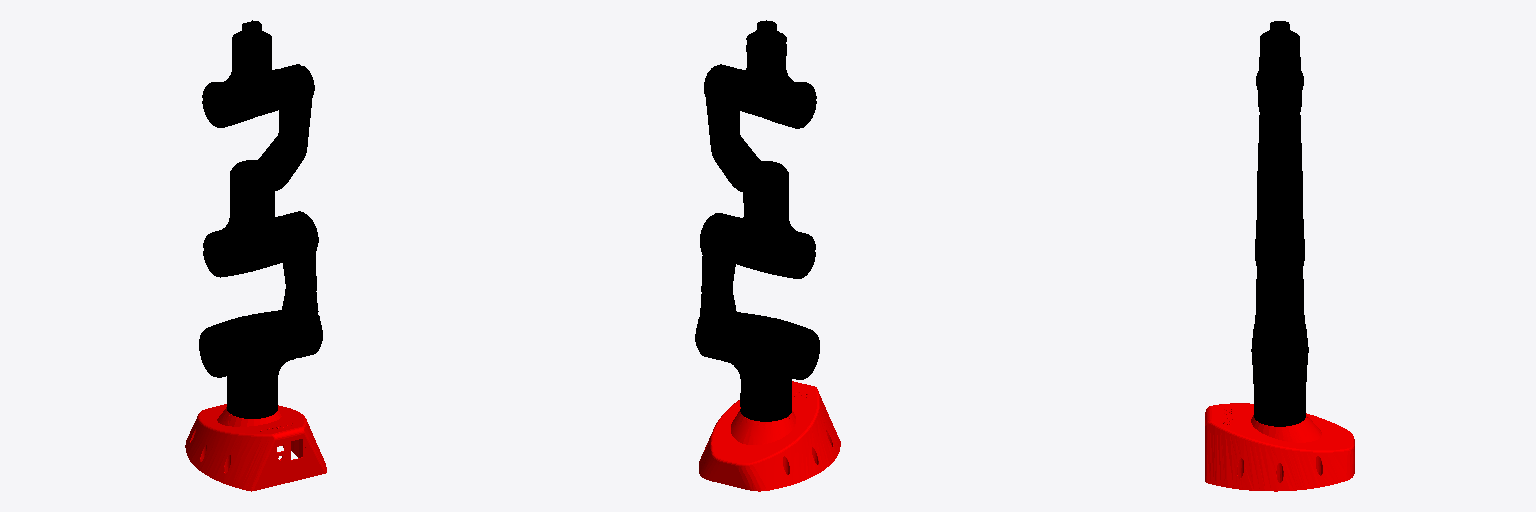
URDF robot description (mara):
<?xml version="1.0" ?>
<!-- =================================================================================== -->
<!-- |    This document was autogenerated by xacro from ros2_mara_ws/src/mara/mara_description/urdf/reinforcement_learning/mara_robot_run.urdf.xacro | -->
<!-- |    EDITING THIS FILE BY HAND IS NOT RECOMMENDED                                 | -->
<!-- =================================================================================== -->
<robot name="mara" xmlns:xacro="http://ros.org/wiki/xacro">
  <link name="motor1_link">
    <inertial>
      <origin rpy="0 0 0" xyz="0.02066 0 0.12051"/>
      <mass value="5.6"/>
      <inertia ixx="0.0200769278" ixy="-7.72273E-006" ixz="-0.0050158708" iyy="0.0257088151" iyz="5.49229E-006" izz="0.0120821377"/>
    </inertial>
    <visual>
      <origin rpy="0 0 0" xyz="0 0 0"/>
      <geometry>
        <mesh filename="package://mara_description/meshes/MARA_T49.dae" scale="0.001 0.001 0.001"/>
      </geometry>
      <material name="Gazebo/White">
        <color rgba="0. 0. 0. 1"/>
      </material>
    </visual>
    <collision>
      <origin rpy="0 0 0" xyz="0 0 0"/>
      <geometry>
        <mesh filename="package://mara_description/meshes/MARA_T49.dae" scale="0.001 0.001 0.001"/>
      </geometry>
    </collision>
  </link>
  <gazebo reference="motor1_link">
    <material>Gazebo/White</material>
    <selfCollide>True</selfCollide>
  </gazebo>
  <link name="motor1_cover">
    <inertial>
      <origin rpy="0 0 0" xyz="0 0 0"/>
      <mass value="0.0"/>
      <inertia ixx="0.0" ixy="0.0" ixz="0.0" iyy="0.0" iyz="0.0" izz="0.0"/>
    </inertial>
    <visual>
      <origin rpy="0 0 0" xyz="0 0 0"/>
      <geometry>
        <mesh filename="package://mara_description/meshes/MARA_T49_Black.dae" scale="0.001 0.001 0.001"/>
      </geometry>
      <material name="Gazebo/Black">
        <color rgba="0. 0. 0. 1"/>
      </material>
    </visual>
    <collision>
      <origin rpy="0 0 0" xyz="0 0 0"/>
      <geometry>
        <mesh filename="package://mara_description/meshes/MARA_T49_Black.dae" scale="0.001 0.001 0.001"/>
      </geometry>
    </collision>
  </link>
  <gazebo reference="motor1_cover">
    <material>Gazebo/Black</material>
    <selfCollide>True</selfCollide>
  </gazebo>
  <link name="motor2_link">
    <inertial>
      <origin rpy="0 0 0" xyz="-0.01665 0.0 0.09639"/>
      <mass value="1.24"/>
      <inertia ixx="0.0079614839" ixy="0.000000037" ixz="0.0003203013" iyy="0.007135338" iyz="-0.000001062" izz="0.001111114"/>
    </inertial>
    <visual>
      <origin rpy="0 0 0" xyz="0 0 0"/>
      <geometry>
        <mesh filename="package://mara_description/meshes/MARA_Link1.dae" scale="0.001 0.001 0.001"/>
      </geometry>
      <material name="Gazebo/Black">
        <color rgba="0. 0. 0. 1"/>
      </material>
    </visual>
    <collision>
      <origin rpy="0 0 0" xyz="0 0 0"/>
      <geometry>
        <mesh filename="package://mara_description/meshes/MARA_Link1.dae" scale="0.001 0.001 0.001"/>
      </geometry>
    </collision>
  </link>
  <gazebo reference="motor2_link">
    <material>Gazebo/Black</material>
    <selfCollide>True</selfCollide>
  </gazebo>
  <link name="motor3_link">
    <inertial>
      <origin rpy="0 0 0" xyz="-0.08963 0 0.0403"/>
      <mass value="3.95"/>
      <inertia ixx="0.0115136615" ixy="-1.231046E-005" ixz="0.003148516" iyy="0.0149841676" iyz="-8.81378E-006" izz="0.0070387807"/>
    </inertial>
    <visual>
      <origin rpy="0 0 0" xyz="0 0 0"/>
      <geometry>
        <mesh filename="package://mara_description/meshes/MARA_T30.dae" scale="0.001 0.001 0.001"/>
      </geometry>
      <material name="Gazebo/White">
        <color rgba="0. 0. 0. 1"/>
      </material>
    </visual>
    <collision>
      <origin rpy="0 0 0" xyz="0 0 0"/>
      <geometry>
        <mesh filename="package://mara_description/meshes/MARA_T30.dae" scale="0.001 0.001 0.001"/>
      </geometry>
    </collision>
  </link>
  <gazebo reference="motor3_link">
    <material>Gazebo/White</material>
    <selfCollide>True</selfCollide>
  </gazebo>
  <link name="motor3_cover">
    <inertial>
      <origin rpy="0 0 0" xyz="0 0 0"/>
      <mass value="0.0"/>
      <inertia ixx="0.0" ixy="0.0" ixz="0.0" iyy="0.0" iyz="0.0" izz="0.0"/>
    </inertial>
    <visual>
      <origin rpy="0 0 0" xyz="0 0 0"/>
      <geometry>
        <mesh filename="package://mara_description/meshes/MARA_T30_Black.dae" scale="0.001 0.001 0.001"/>
      </geometry>
      <material name="Gazebo/Black">
        <color rgba="0. 0. 0. 1"/>
      </material>
    </visual>
    <collision>
      <origin rpy="0 0 0" xyz="0 0 0"/>
      <geometry>
        <mesh filename="package://mara_description/meshes/MARA_T30_Black.dae" scale="0.001 0.001 0.001"/>
      </geometry>
    </collision>
  </link>
  <gazebo reference="motor3_cover">
    <material>Gazebo/Black</material>
    <selfCollide>True</selfCollide>
  </gazebo>
  <link name="motor4_link">
    <inertial>
      <origin rpy="0 0 0" xyz="0.06357 0.0 0.05698"/>
      <mass value="1.26"/>
      <inertia ixx="0.005919676" ixy="0.000000923" ixz="-0.0022280208" iyy="0.0068807393" iyz="6.1373E-007" izz="0.00257485"/>
    </inertial>
    <visual>
      <origin rpy="0 0 0" xyz="0 0 0"/>
      <geometry>
        <mesh filename="package://mara_description/meshes/MARA_Link2.dae" scale="0.001 0.001 0.001"/>
      </geometry>
      <material name="Gazebo/Black">
        <color rgba="0. 0. 0. 1"/>
      </material>
    </visual>
    <collision>
      <origin rpy="0 0 0" xyz="0 0 0"/>
      <geometry>
        <mesh filename="package://mara_description/meshes/MARA_Link2.dae" scale="0.001 0.001 0.001"/>
      </geometry>
    </collision>
  </link>
  <gazebo reference="motor4_link">
    <material>Gazebo/Black</material>
    <selfCollide>True</selfCollide>
  </gazebo>
  <link name="motor5_link">
    <inertial>
      <origin rpy="0 0 0" xyz="-0.09105 0.0 0.03676"/>
      <mass value="2.85"/>
      <inertia ixx="0.0072829492" ixy="3.77994E-006" ixz="0.0015682105" iyy="0.0098263499" iyz="2.52745E-006" izz="0.0045615321"/>
    </inertial>
    <visual>
      <origin rpy="0 0 0" xyz="0 0 0"/>
      <geometry>
        <mesh filename="package://mara_description/meshes/MARA_T5.4.dae" scale="0.001 0.001 0.001"/>
      </geometry>
      <material name="Gazebo/White">
        <color rgba="0. 0. 0. 1"/>
      </material>
    </visual>
    <collision>
      <origin rpy="0 0 0" xyz="0 0 0"/>
      <geometry>
        <mesh filename="package://mara_description/meshes/MARA_T5.4.dae" scale="0.001 0.001 0.001"/>
      </geometry>
    </collision>
  </link>
  <gazebo reference="motor5_link">
    <material>Gazebo/White</material>
    <selfCollide>True</selfCollide>
  </gazebo>
  <link name="motor5_cover">
    <inertial>
      <origin rpy="0 0 0" xyz="0 0 0"/>
      <mass value="0.0"/>
      <inertia ixx="0.0" ixy="0.0" ixz="0.0" iyy="0.0" iyz="0.0" izz="0.0"/>
    </inertial>
    <visual>
      <origin rpy="0 0 0" xyz="0 0 0"/>
      <geometry>
        <mesh filename="package://mara_description/meshes/MARA_T5.4_black.dae" scale="0.001 0.001 0.001"/>
      </geometry>
      <material name="Gazebo/Black">
        <color rgba="0. 0. 0. 1"/>
      </material>
    </visual>
    <collision>
      <origin rpy="0 0 0" xyz="0 0 0"/>
      <geometry>
        <mesh filename="package://mara_description/meshes/MARA_T5.4_black.dae" scale="0.001 0.001 0.001"/>
      </geometry>
    </collision>
  </link>
  <gazebo reference="motor5_cover">
    <material>Gazebo/Black</material>
    <selfCollide>True</selfCollide>
  </gazebo>
  <!-- dummy link with the required tags-->
  <link name="motor6_link">
    <inertial>
      <origin rpy="0 0 0" xyz="0 0 0"/>
      <mass value="0.00001"/>
      <inertia ixx="0" ixy="0" ixz="0" iyy="0" iyz="0" izz="0"/>
    </inertial>
    <visual>
      <origin rpy="0 0 0" xyz="0 0 0"/>
      <geometry>
        <sphere radius="0"/>
      </geometry>
    </visual>
    <collision>
      <origin rpy="0 0 0" xyz="0 0 0"/>
      <geometry>
        <sphere radius="0"/>
      </geometry>
    </collision>
  </link>
  <link name="ee_link">
    <!-- <visual>
      <geometry>
        <sphere radius="0.01"/>
      </geometry>
      <material name="Gazebo/Grey">
        <color rgba="0. 0. 0. 1"/>
      </material>
    </visual> -->
  </link>
  <gazebo reference="ee_link">
    <material>Gazebo/Blue</material>
    <selfCollide>False</selfCollide>
  </gazebo>
  <joint name="motor1_cover_joint" type="fixed">
    <origin rpy="0 0 0" xyz="0 0 0.0"/>
    <parent link="motor1_link"/>
    <child link="motor1_cover"/>
  </joint>
  <joint name="motor2" type="revolute">
    <origin rpy="0 0 0" xyz="0.118 0 0.1637"/>
    <parent link="motor1_link"/>
    <child link="motor2_link"/>
    <axis xyz="1 0 0"/>
    <limit effort="104.0" lower="-2.35" upper="2.35" velocity="1.57"/>
    <dynamics damping="0" friction="0"/>
  </joint>
  <joint name="motor3" type="revolute">
    <origin rpy="0 0 0" xyz="-0.009 0 0.2"/>
    <parent link="motor2_link"/>
    <child link="motor3_link"/>
    <axis xyz="-1 0 0"/>
    <limit effort="69" lower="-2.61" upper="2.61" velocity="1.57"/>
    <dynamics damping="0" friction="0"/>
  </joint>
  <joint name="motor3_cover_joint" type="fixed">
    <origin rpy="0 0 0" xyz="0 0 0.0"/>
    <parent link="motor3_link"/>
    <child link="motor3_cover"/>
  </joint>
  <joint name="motor4" type="revolute">
    <origin rpy="0 0 0" xyz="-0.109255 0 0.149255"/>
    <parent link="motor3_link"/>
    <child link="motor4_link"/>
    <axis xyz="0 0 1"/>
    <limit effort="69" lower="-3.14" upper="3.14" velocity="1.57"/>
    <dynamics damping="0" friction="0"/>
  </joint>
  <joint name="motor5" type="revolute">
    <origin rpy="0 0 0" xyz="0.1054570 0 0.16074"/>
    <parent link="motor4_link"/>
    <child link="motor5_link"/>
    <axis xyz="-1 0 0"/>
    <limit effort="34" lower="-2.56" upper="2.56" velocity="1.57"/>
    <dynamics damping="0" friction="0"/>
  </joint>
  <joint name="motor5_cover_joint" type="fixed">
    <origin rpy="0 0 0" xyz="0 0 0.0"/>
    <parent link="motor5_link"/>
    <child link="motor5_cover"/>
  </joint>
  <joint name="motor6" type="revolute">
    <origin rpy="0 0 0" xyz="-0.10625569 0 0.14675569"/>
    <parent link="motor5_link"/>
    <child link="motor6_link"/>
    <axis xyz="0 0 1"/>
    <limit effort="34" lower="-3.14" upper="3.14" velocity="1.57"/>
    <dynamics damping="0" friction="0"/>
  </joint>
  <joint name="ee_link" type="fixed">
    <origin rpy="0 0 0" xyz="0 0.0 0.24497"/>
    <parent link="motor6_link"/>
    <child link="ee_link"/>
  </joint>
  <transmission name="shoulder_pan_trans">
    <type>transmission_interface/SimpleTransmission</type>
    <joint name="motor1">
      <hardwareInterface>hardware_interface/PositionJointInterface</hardwareInterface>
    </joint>
    <actuator name="shoulder_pan_motor">
      <mechanicalReduction>1</mechanicalReduction>
    </actuator>
  </transmission>
  <transmission name="shoulder_lift_trans">
    <type>transmission_interface/SimpleTransmission</type>
    <joint name="motor2">
      <hardwareInterface>hardware_interface/PositionJointInterface</hardwareInterface>
    </joint>
    <actuator name="shoulder_lift_motor">
      <mechanicalReduction>1</mechanicalReduction>
    </actuator>
  </transmission>
  <transmission name="elbow_trans">
    <type>transmission_interface/SimpleTransmission</type>
    <joint name="motor3">
      <hardwareInterface>hardware_interface/PositionJointInterface</hardwareInterface>
    </joint>
    <actuator name="elbow_motor">
      <mechanicalReduction>1</mechanicalReduction>
    </actuator>
  </transmission>
  <transmission name="wrist_1_trans">
    <type>transmission_interface/SimpleTransmission</type>
    <joint name="motor4">
      <hardwareInterface>hardware_interface/PositionJointInterface</hardwareInterface>
    </joint>
    <actuator name="wrist_1_motor">
      <mechanicalReduction>1</mechanicalReduction>
    </actuator>
  </transmission>
  <transmission name="wrist_2_trans">
    <type>transmission_interface/SimpleTransmission</type>
    <joint name="motor5">
      <hardwareInterface>hardware_interface/PositionJointInterface</hardwareInterface>
    </joint>
    <actuator name="wrist_2_motor">
      <mechanicalReduction>1</mechanicalReduction>
    </actuator>
  </transmission>
  <transmission name="wrist_3_trans">
    <type>transmission_interface/SimpleTransmission</type>
    <joint name="motor6">
      <hardwareInterface>hardware_interface/PositionJointInterface</hardwareInterface>
    </joint>
    <actuator name="wrist_3_motor">
      <mechanicalReduction>1</mechanicalReduction>
    </actuator>
  </transmission>
  <gazebo>
    <plugin filename="libgazebo_ros_joint_state_publisher.so" name="joint_state">
      <ros>
        <argument>~/out:=joint_states</argument>
      </ros>
      <update_rate>25</update_rate>
      <joint_name>motor1</joint_name>
      <joint_name>motor2</joint_name>
      <joint_name>motor3</joint_name>
      <joint_name>motor4</joint_name>
      <joint_name>motor5</joint_name>
      <joint_name>motor6</joint_name>
      <joint_name>joint_finger</joint_name>
    </plugin>
    <plugin filename="libmara_gazebo_joint_plugin.so" name="hrim_actuator_rotaryservo_000000000001">
      <ros/>
      <axis1>motor2</axis1>
      <axis2>motor1</axis2>
      <type>series14</type>
    </plugin>
    <plugin filename="libmara_gazebo_joint_plugin.so" name="hrim_actuator_rotaryservo_000000000002">
      <ros/>
      <axis1>motor3</axis1>
      <axis2>motor4</axis2>
      <type>series17</type>
    </plugin>
    <plugin filename="libmara_gazebo_joint_plugin.so" name="hrim_actuator_rotaryservo_000000000003">
      <ros/>
      <axis1>motor5</axis1>
      <axis2>motor6</axis2>
      <type>series20</type>
    </plugin>
  </gazebo>
  <link name="world"/>
  <link name="base_robot">
    <inertial>
      <origin rpy="0 0 0" xyz="8.625E-08 -4.6583E-06 0.03145"/>
      <mass value="7.033"/>
      <inertia ixx="0.1478344" ixy="0.00001" ixz="0.0" iyy="0.14782335" iyz="0.0" izz="0.29471799"/>
    </inertial>
    <visual>
      <origin rpy="0 0 0" xyz="0 0 0"/>
      <geometry>
        <mesh filename="package://mara_description/meshes/v8_MARA_Base.dae" scale="0.001 0.001 0.001"/>
      </geometry>
      <material name="Gazebo/Black">
        <color rgba="1. 0. 0. 1.0"/>
      </material>
    </visual>
    <collision>
      <origin rpy="0 0 0" xyz="0 0 0"/>
      <geometry>
        <mesh filename="package://mara_description/meshes/v8_MARA_Base.dae" scale="0.001 0.001 0.001"/>
      </geometry>
    </collision>
  </link>
  <gazebo reference="base_robot">
    <material>Gazebo/Black</material>
    <selfCollide>True</selfCollide>
  </gazebo>
  <joint name="world_to_base_robot" type="fixed">
    <origin rpy="0 0 0" xyz="0 0 0"/>
    <parent link="world"/>
    <child link="base_robot"/>
  </joint>
  <joint name="motor1" type="revolute">
    <origin rpy="0 0 0" xyz="0 0 0.06874"/>
    <parent link="base_robot"/>
    <child link="motor1_link"/>
    <axis xyz="0 0 1"/>
    <limit effort="104.0" lower="-3.1416" upper="3.1416" velocity="1.57"/>
    <dynamics damping="0" friction="0"/>
  </joint>
</robot>

--- What the picture shows (computed from the rendered views, not written in the file) ---
The picture shows the robot from 3 angles, left to right: view 1: azimuth 30°, elevation 25°; view 2: azimuth 150°, elevation 25°; view 3: azimuth 270°, elevation 25°; orthographic projection.
Model mara with 12 links and 11 joints (6 revolute, 5 fixed), rooted at world, posed all joints at 0.
Links seen in each view (by area): view 1: base_robot, motor1_link, motor4_link, motor5_link, motor3_link, motor2_link, motor1_cover, motor5_cover, motor3_cover; view 2: base_robot, motor1_link, motor4_link, motor5_link, motor3_link, motor2_link, motor1_cover, motor5_cover, motor3_cover; view 3: base_robot, motor2_link, motor4_link, motor5_link, motor3_link, motor1_link.
Boxes of the visible links, x1,y1,x2,y2 form: base_robot: (185,404,326,491); motor1_link: (227,309,301,413); motor4_link: (230,64,314,196); motor5_link: (224,20,291,116); motor3_link: (222,194,295,270); motor2_link: (282,211,322,357); motor1_cover: (199,308,306,418); motor5_cover: (202,23,297,127); motor3_cover: (203,190,300,277); base_robot: (699,381,840,491); motor1_link: (717,311,791,415); motor4_link: (704,64,788,197); motor5_link: (726,20,794,117); motor3_link: (722,193,797,271); motor2_link: (695,213,735,359); motor1_cover: (711,310,819,421); motor5_cover: (720,22,816,128); motor3_cover: (717,191,815,278); base_robot: (1205,403,1354,491); motor2_link: (1254,248,1305,400); motor4_link: (1257,97,1302,197); motor5_link: (1258,21,1301,111); motor3_link: (1255,197,1304,265); motor1_link: (1251,333,1308,420).
Size in the robot's own frame: 0.2487 by 0.273 by 0.8897 metres.
Meshes: 9 distinct files referenced, 9 mesh visuals loaded (9 Collada DAE).
